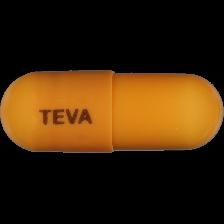42291-653: (0, 0, 224, 224)
